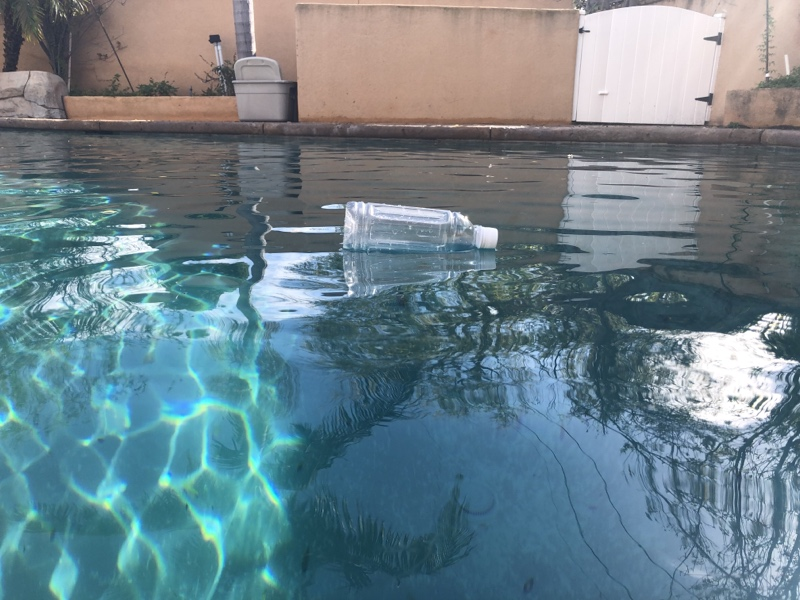Plastic Bottle: (339, 196, 501, 257)
